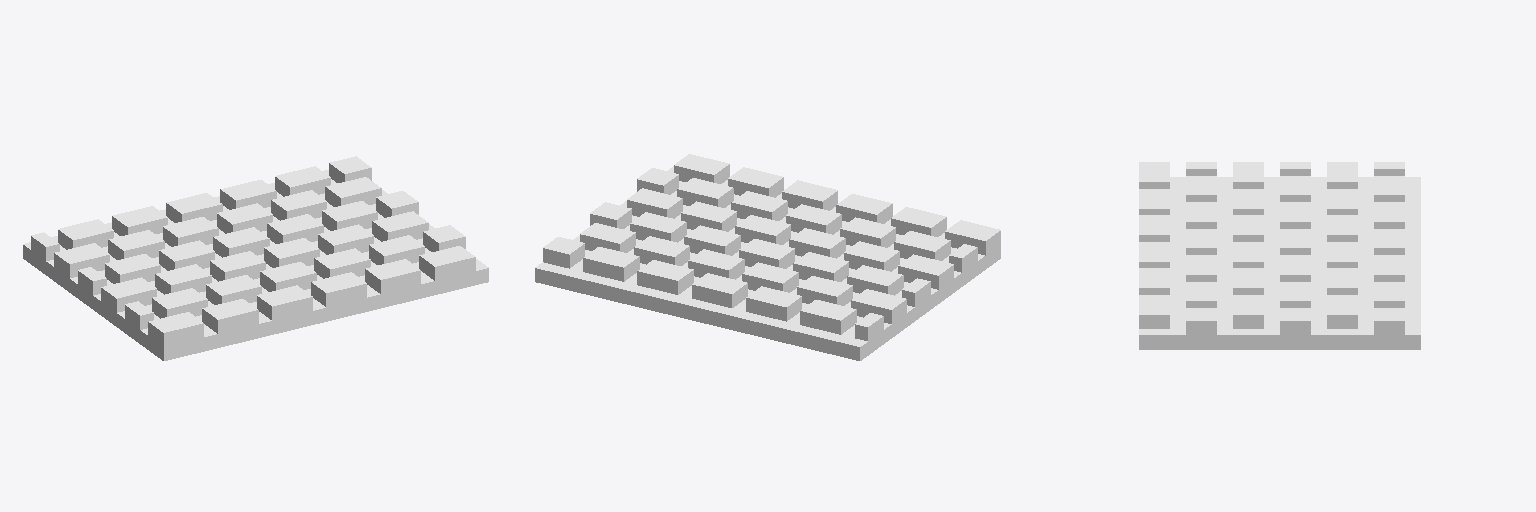
Rendered from paved_path_obj-2.obj.
The picture shows the model from 3 angles: view 1: azimuth 30°, elevation 25°; view 2: azimuth 150°, elevation 25°; view 3: azimuth 270°, elevation 25°; orthographic projection.
Visible parts, largest first — view 1: object 1; view 2: object 1; view 3: object 1.
Boxes of the visible parts, box(x1,y1,x2,y2) form: object 1: box(23, 156, 488, 360); object 1: box(535, 154, 1000, 360); object 1: box(1139, 162, 1420, 349).
Bounding box in the file's own units: 2.4 × 0.2 × 1.8.